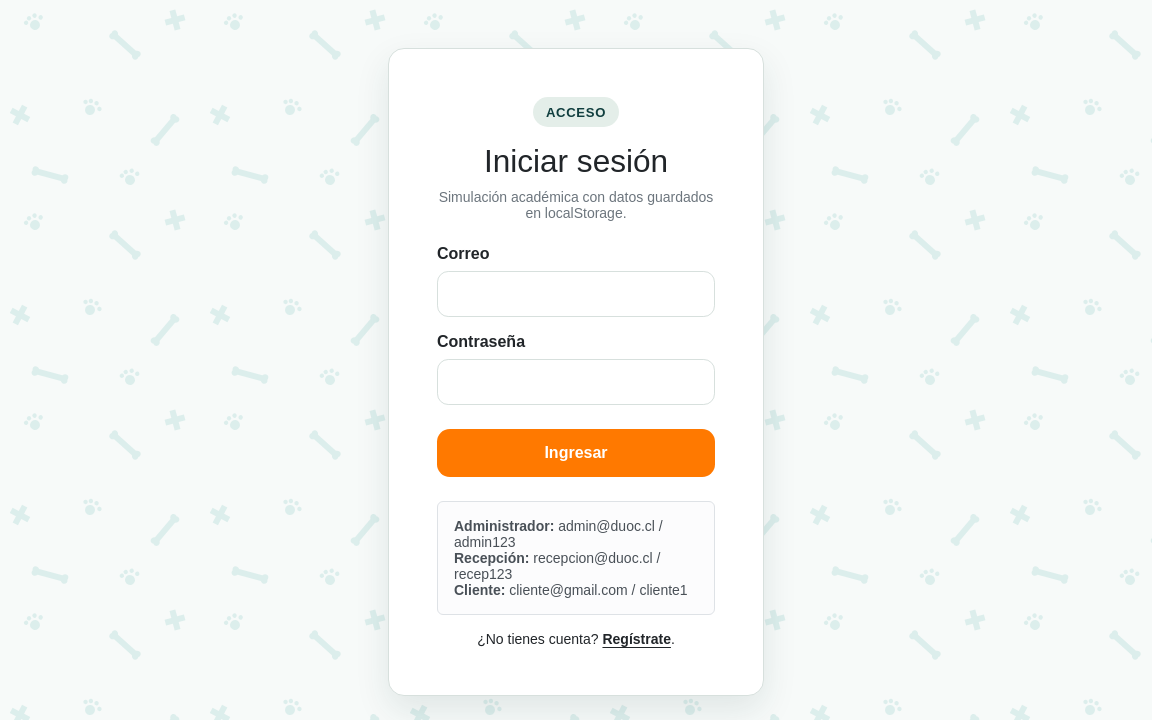
Test: impide iniciar sesión con una cuenta desactivada
Type "cliente@gmail.com" into the field labelled "Correo" at (576, 294), box left=437, top=271, right=715, bottom=317
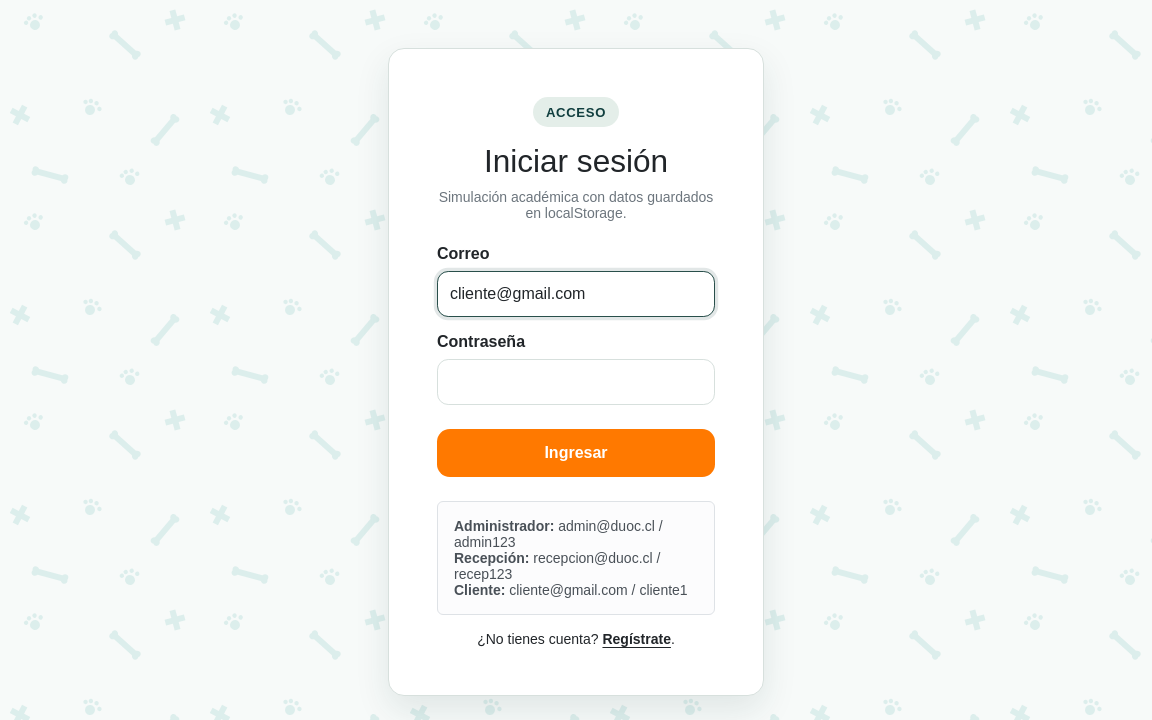
Type "clave1234" into the password field labelled "Contraseña" at (576, 382), box left=437, top=359, right=715, bottom=405
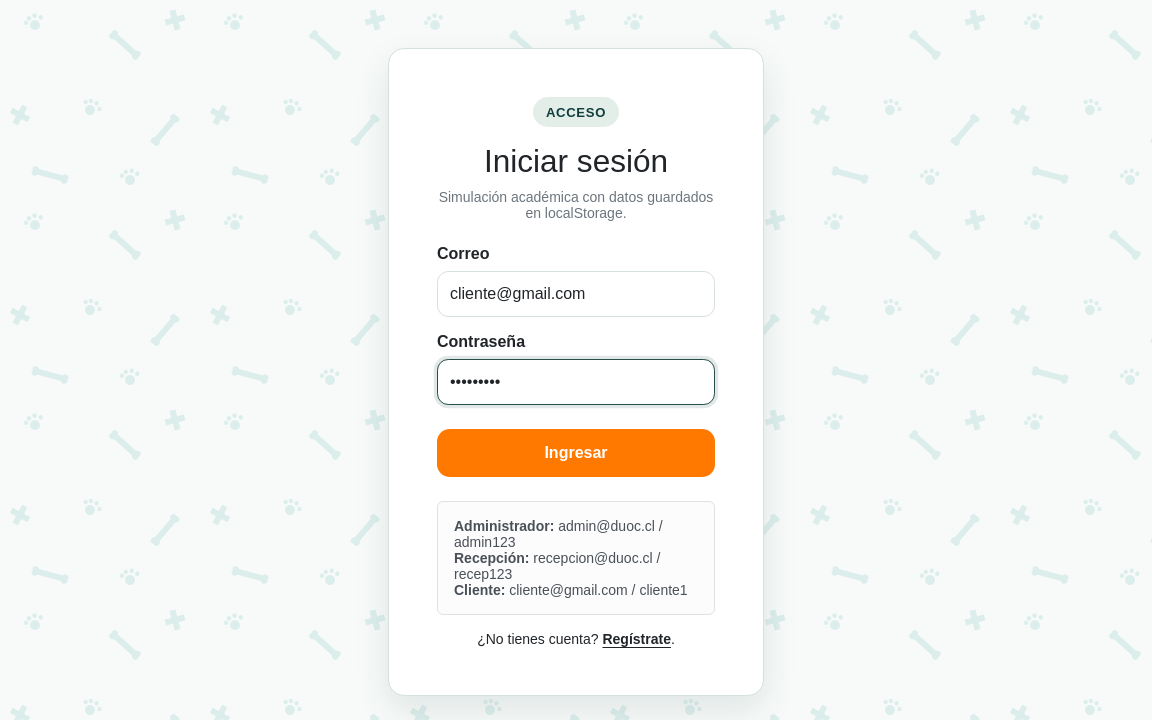
Click the button "Ingresar" at (576, 453), box left=437, top=429, right=715, bottom=477
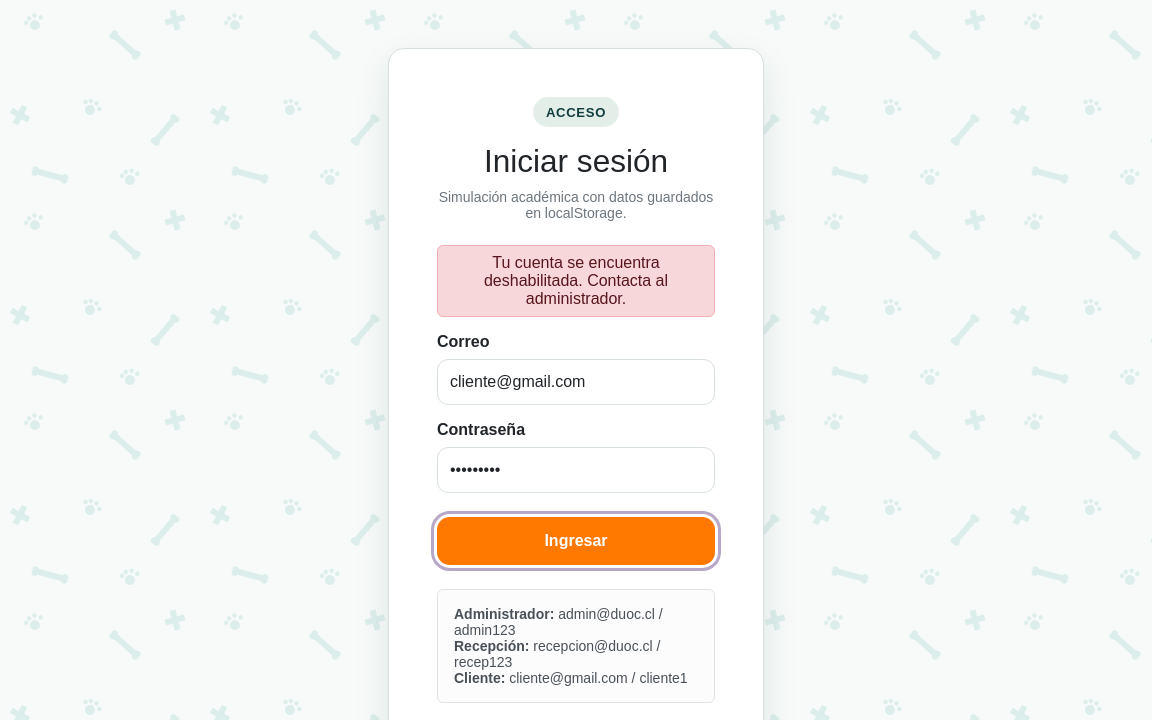
Expected: the message shows "Tu cuenta se encuentra deshabilitada.", left=484, top=254, right=668, bottom=307
